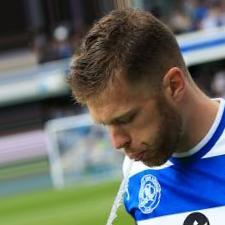spitting: (9, 1, 222, 223)
